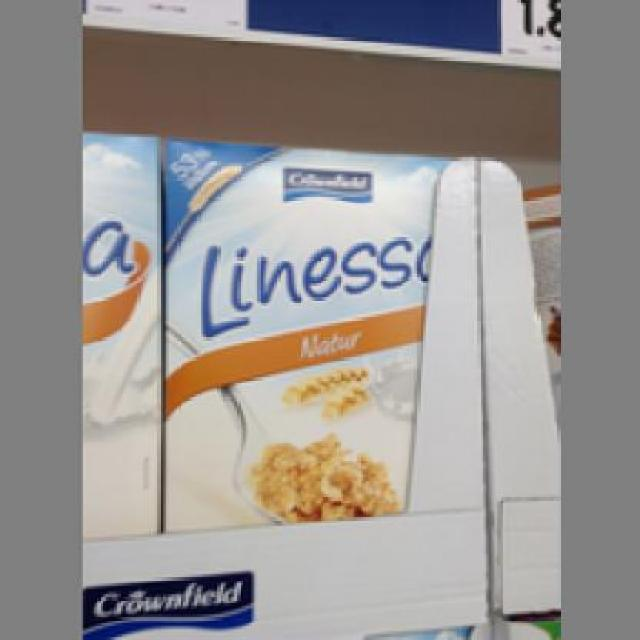Cereal: (162, 137, 458, 532), (80, 132, 157, 534)
